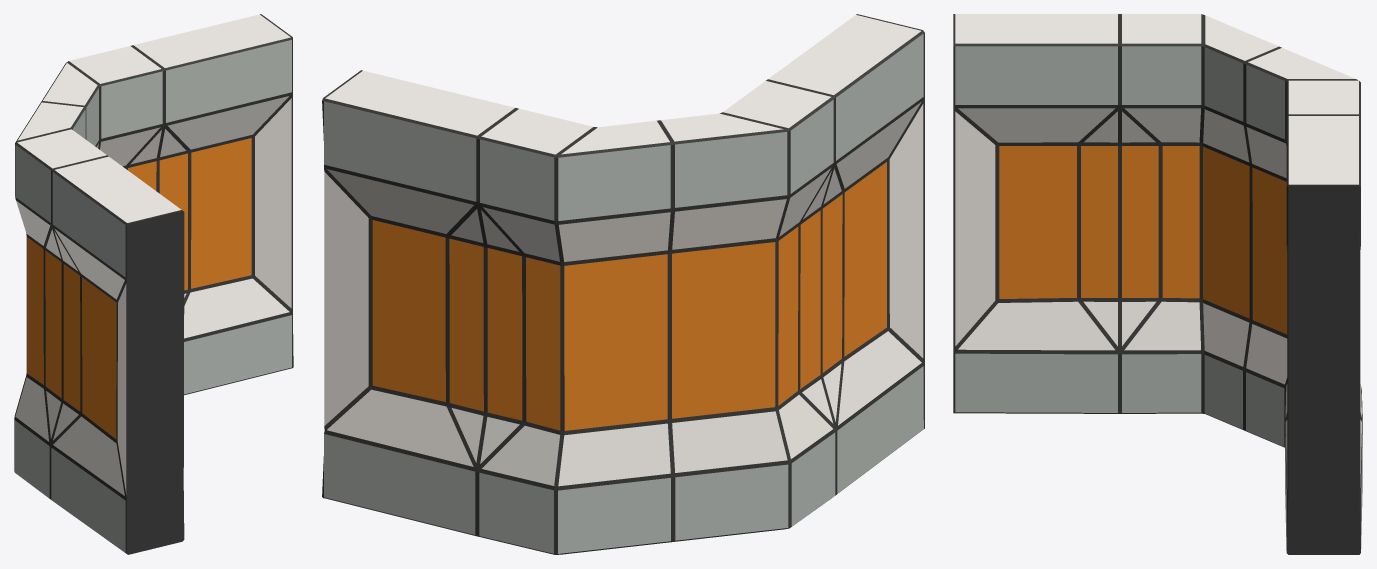
Rendered from Quina.fbx.
3 views of the same model, side by side, from view 1: azimuth 30°, elevation 25°; view 2: azimuth 150°, elevation 25°; view 3: azimuth 270°, elevation 25° (orthographic). The views are drawn at different scales.
Parts seen in each view (by area): view 1: Quina; view 2: Quina; view 3: Quina.
Boxes of the visible parts, x1,y1,x2,y2 form: Quina: (14,14,293,554); Quina: (322,14,924,554); Quina: (953,14,1362,554).
Bounding box in the file's own units: 199 × 198 × 199.
